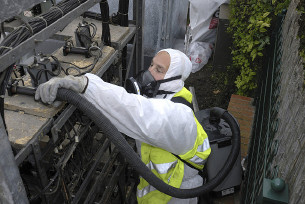face_mask: (144, 54, 168, 87)
